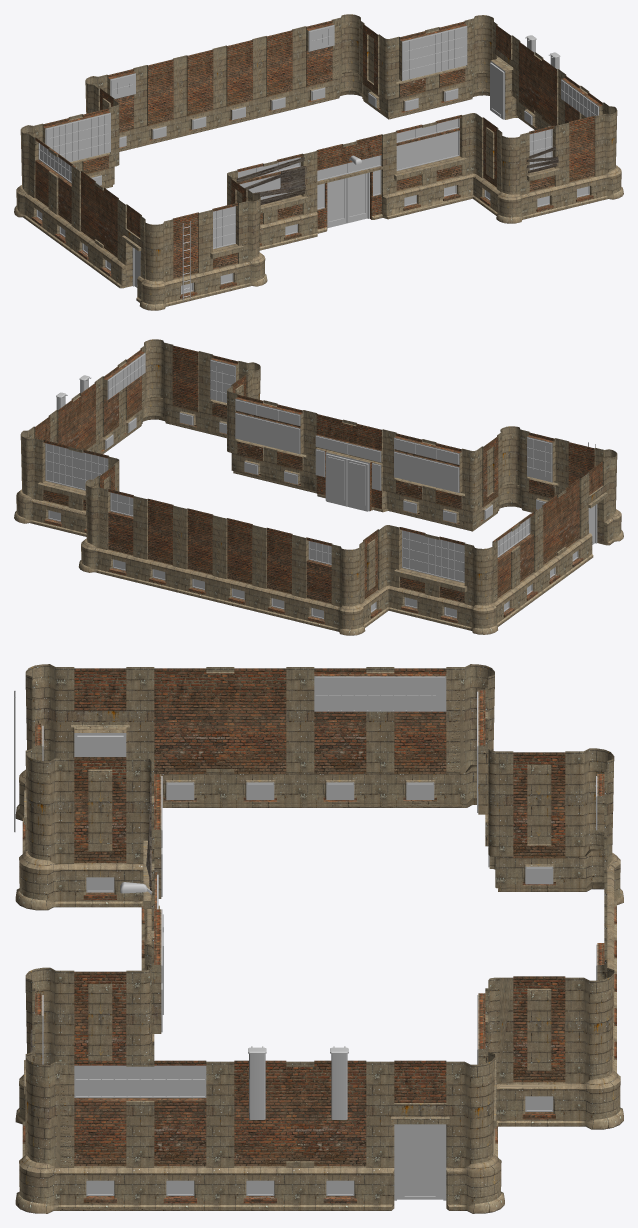
The model's file is build11_el1.fbx.
The picture shows the model from 3 angles, top to bottom: view 1: azimuth 30°, elevation 25°; view 2: azimuth 150°, elevation 25°; view 3: azimuth 270°, elevation 25°; orthographic projection. The views are drawn at different scales.
Parts seen in each view (by area): view 1: polySurface157; view 2: polySurface157; view 3: polySurface157.
Boxes of the visible parts, x1,y1,x2,y2 form: polySurface157: (14,14,623,310); polySurface157: (14,339,623,635); polySurface157: (14,664,623,1213).
Size of the model in its own units: 29.95 by 5.47 by 18.89.
